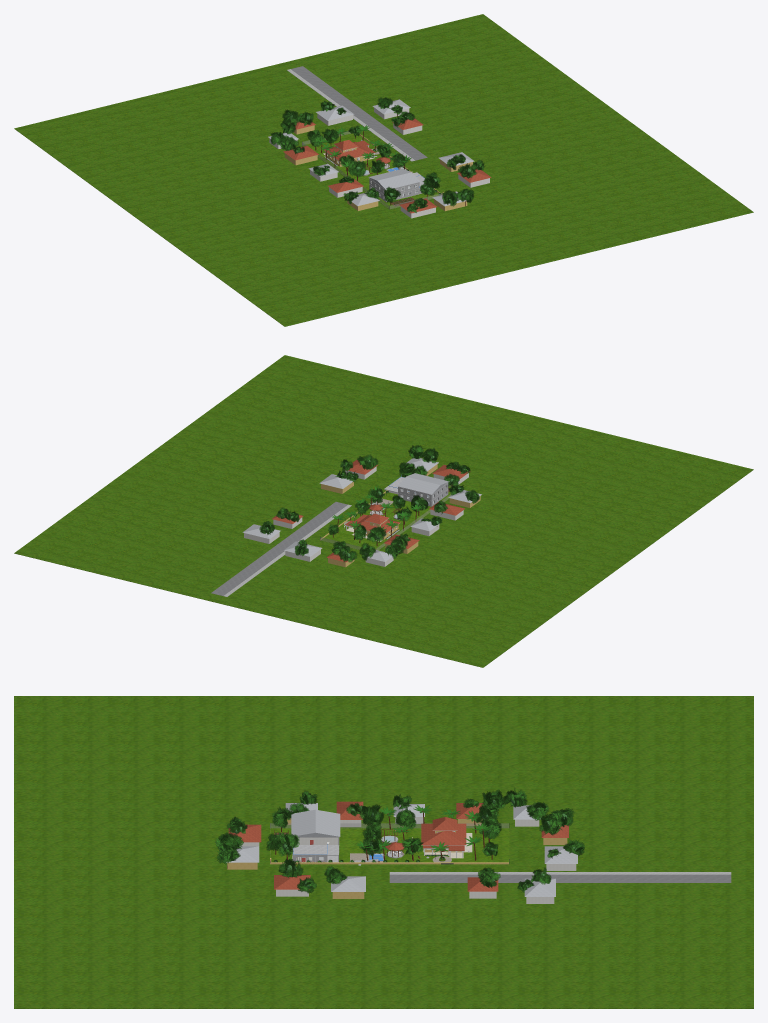
The model's file is escena.glb.
3 renders of one model, top to bottom at view 1: azimuth 30°, elevation 25°; view 2: azimuth 150°, elevation 25°; view 3: azimuth 270°, elevation 25°, orthographic. The views are drawn at different scales.
Visible parts, largest first — view 1: entorno, calle, lote, gris_techo; view 2: entorno, calle, lote, gris_techo; view 3: entorno, lote, calle, gris_techo, acera, amarilla_techo, murete_1.
Boxes of the visible parts, x1,y1,x2,y2 form: entorno: [14, 14, 753, 326]; calle: [291, 66, 427, 160]; lote: [302, 133, 438, 209]; gris_techo: [368, 168, 420, 190]; entorno: [14, 355, 753, 667]; calle: [211, 501, 347, 595]; lote: [320, 486, 451, 550]; gris_techo: [397, 473, 449, 494]; entorno: [14, 696, 753, 1008]; lote: [270, 828, 509, 862]; calle: [389, 874, 731, 882]; gris_techo: [291, 809, 340, 836]; acera: [389, 872, 731, 874]; amarilla_techo: [421, 823, 466, 844]; murete_1: [270, 862, 508, 864].
Size of the model in its own units: 260 by 11.76 by 260.
Materials: 55 (23 with a texture image).
